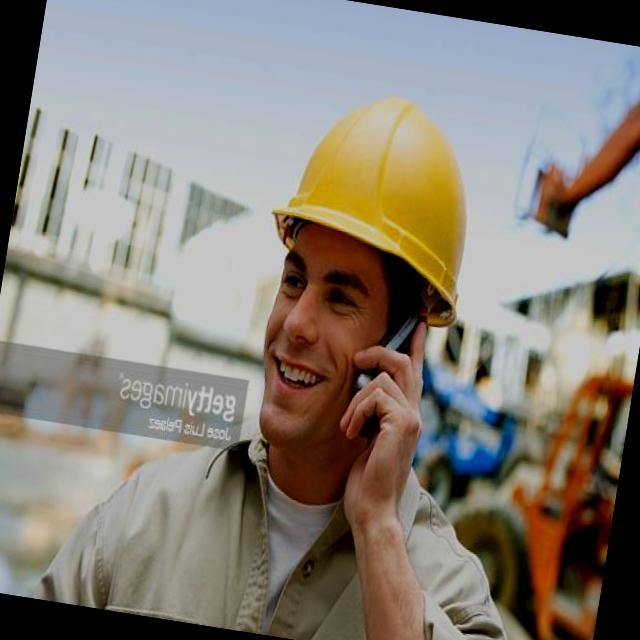helmet: (254, 76, 493, 333)
no-goggles: (253, 248, 437, 352)
no-vest: (33, 426, 495, 640)
